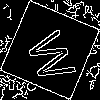W: (25, 25, 85, 86)
